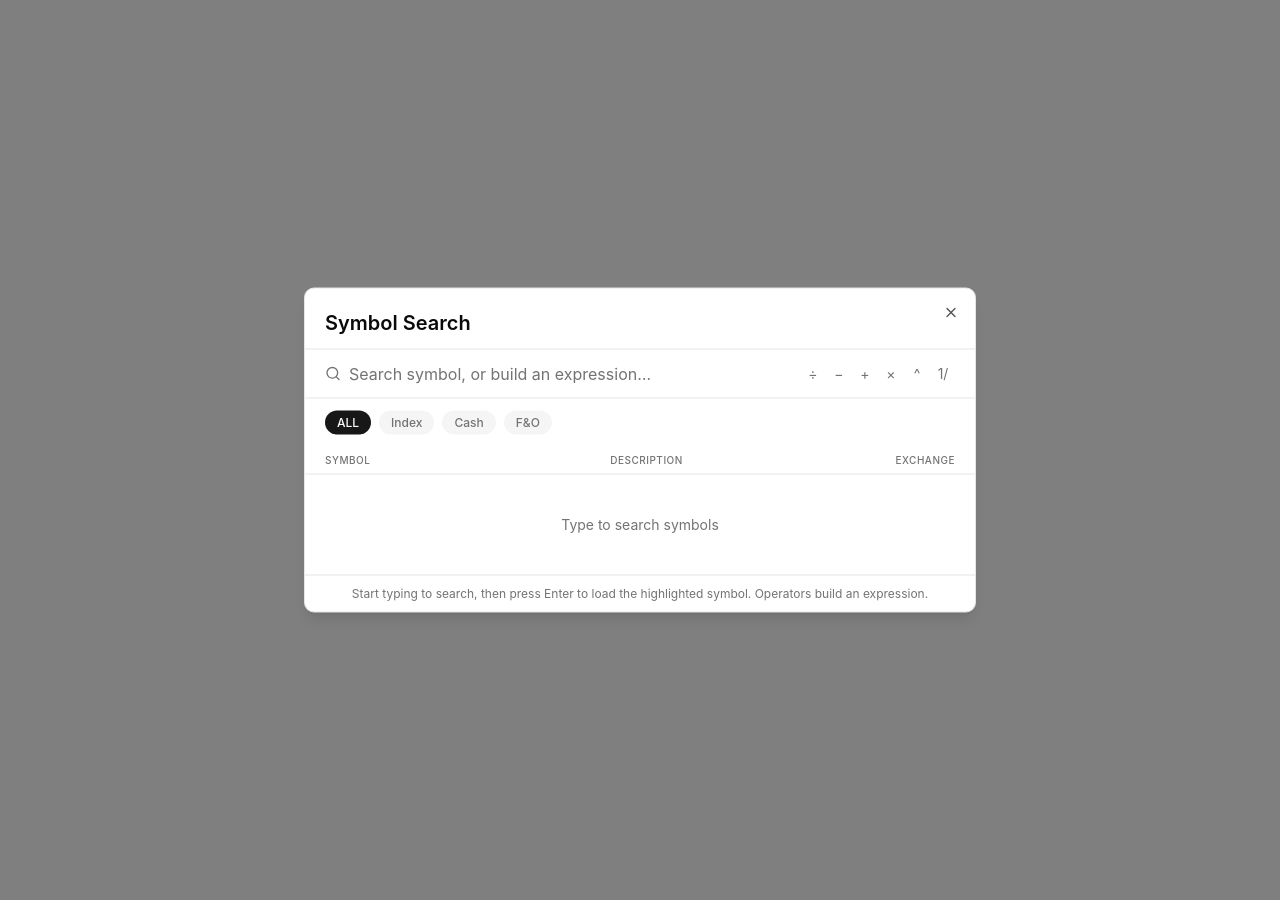
SymbolSearchDialog › filters to only index rows when the Index chip is selected
In the field labelled "Search symbol": (571, 374) [349,362,793,386], type "NIFTY"
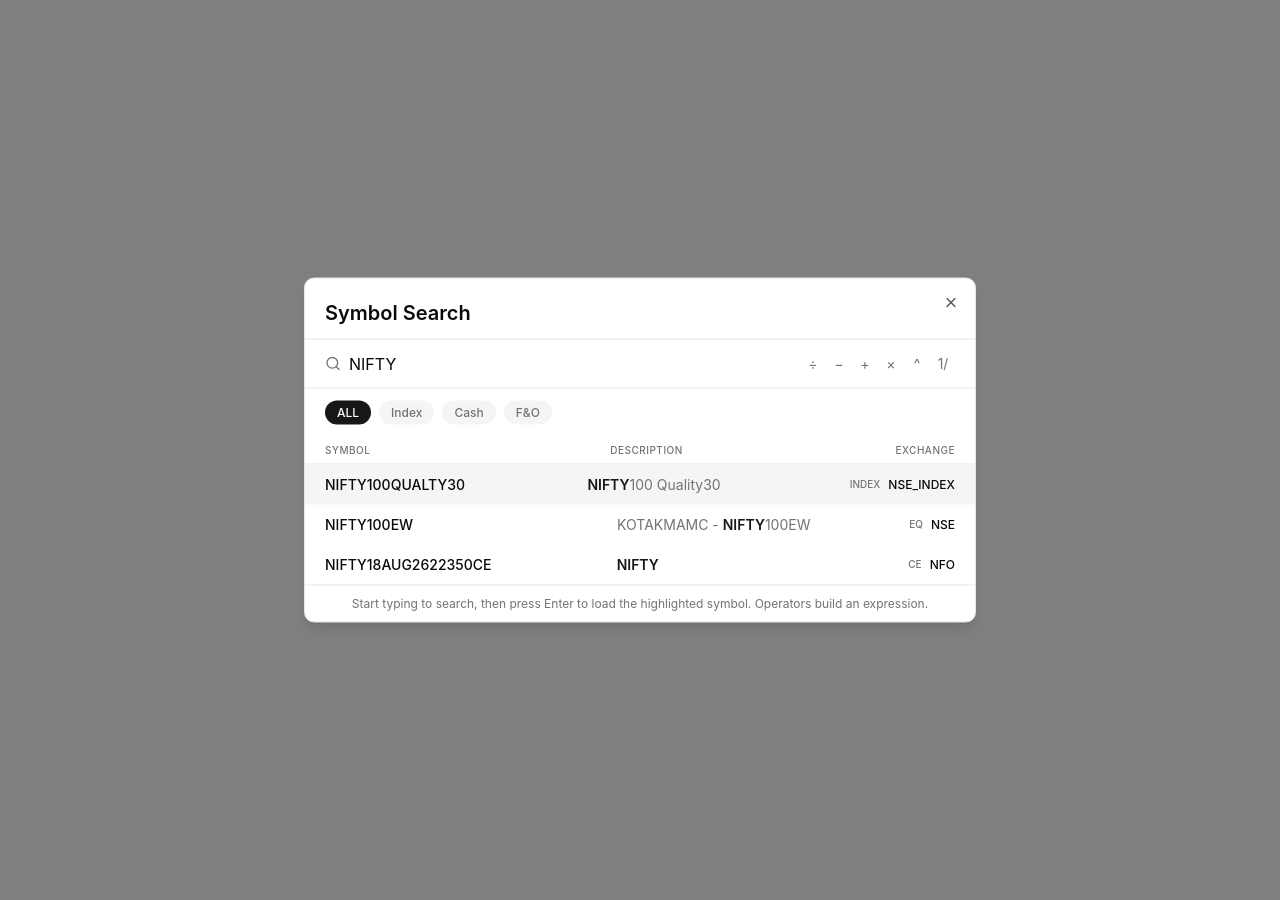
Now the text "NIFTY100QUALTY30" is shown, box [325,476,465,492]
Click the button "Index": (407, 412) [379,400,434,424]
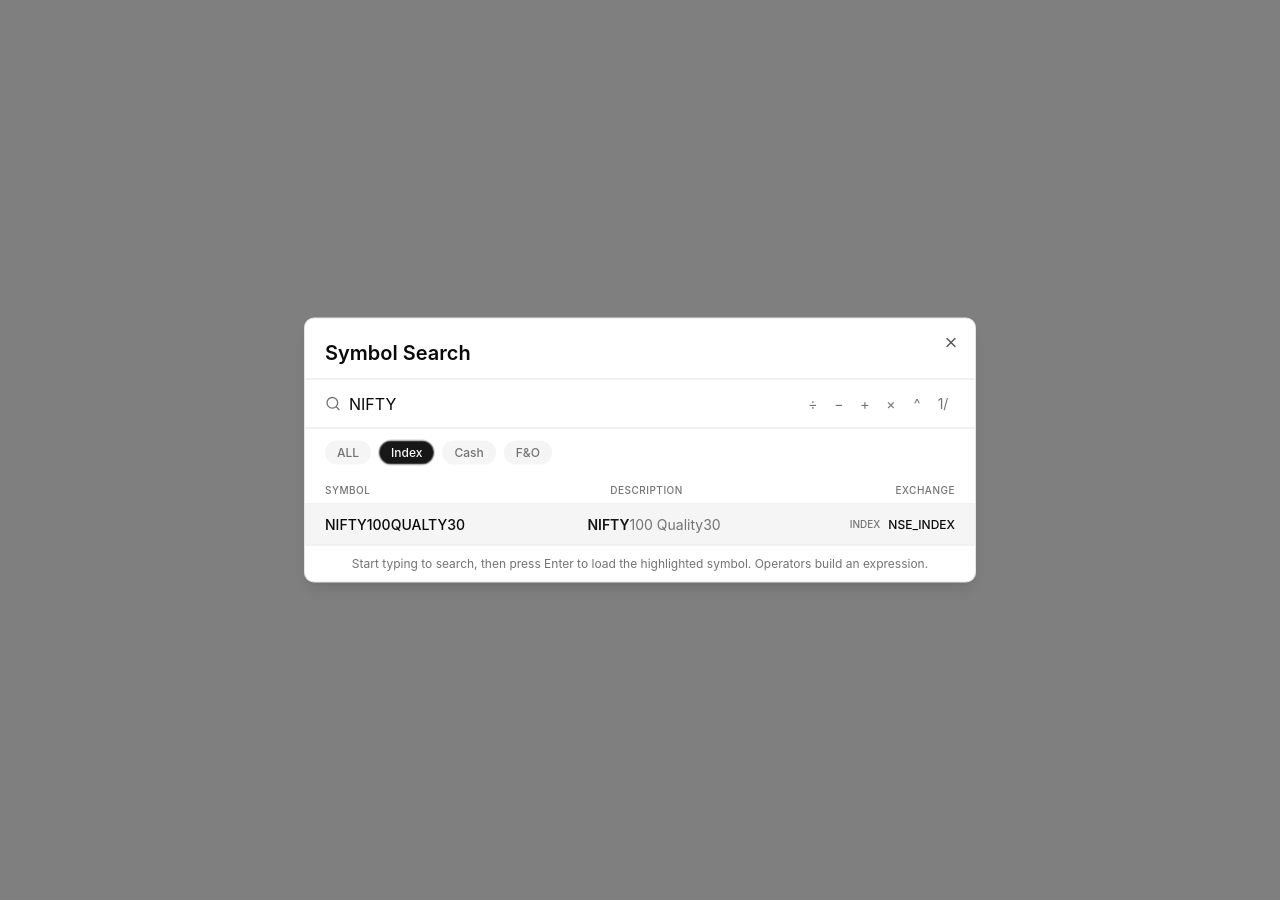
Now the text "NIFTY100QUALTY30" is shown, box [325,516,465,532]
Now the button "NIFTY100EW" is gone
Now the button "NIFTY18AUG2622350CE" is gone
